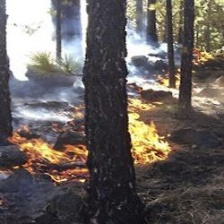fire: (11, 49, 220, 177)
